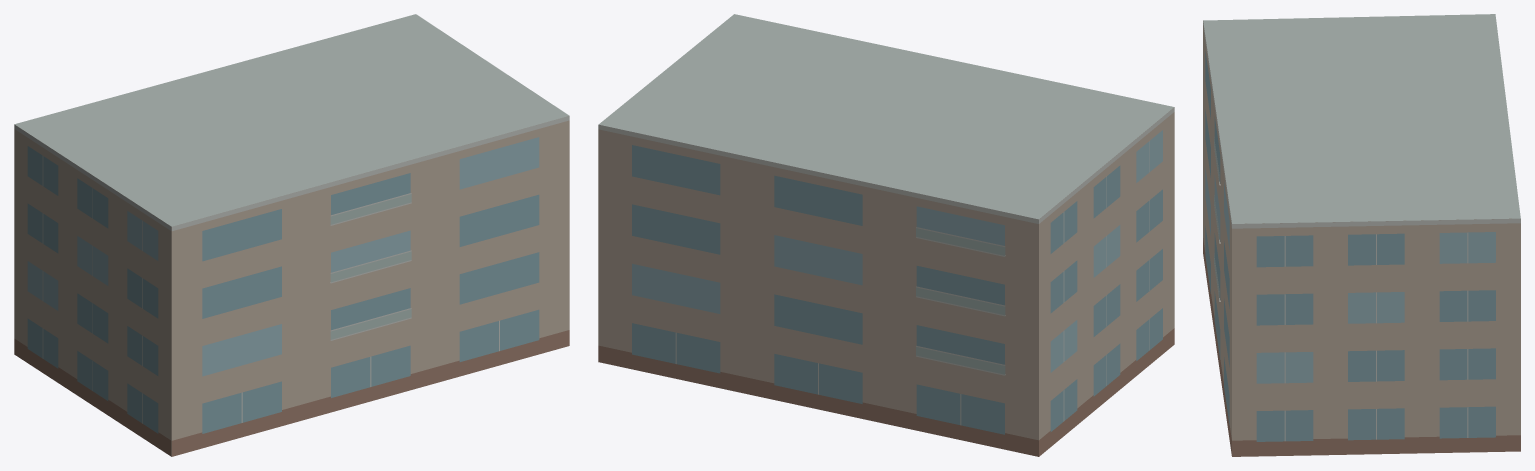
The model's file is survey-upis-32635483.glb.
3 renders of one model, left to right at view 1: azimuth 30°, elevation 25°; view 2: azimuth 150°, elevation 25°; view 3: azimuth 270°, elevation 25°, orthographic. The views are drawn at different scales.
Parts seen in each view (by area): view 1: survey-upis-32635483.tmp; view 2: survey-upis-32635483.tmp; view 3: survey-upis-32635483.tmp.
Boxes of the visible parts, <box> form: survey-upis-32635483.tmp: <box>14,14,569,456</box>; survey-upis-32635483.tmp: <box>598,14,1174,456</box>; survey-upis-32635483.tmp: <box>1203,14,1520,456</box>.
Size of the model in its own units: 23.61 by 12.2 by 15.1.
